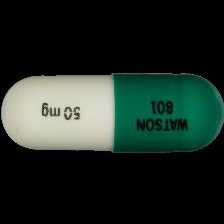64725-0801: (0, 0, 224, 224)
